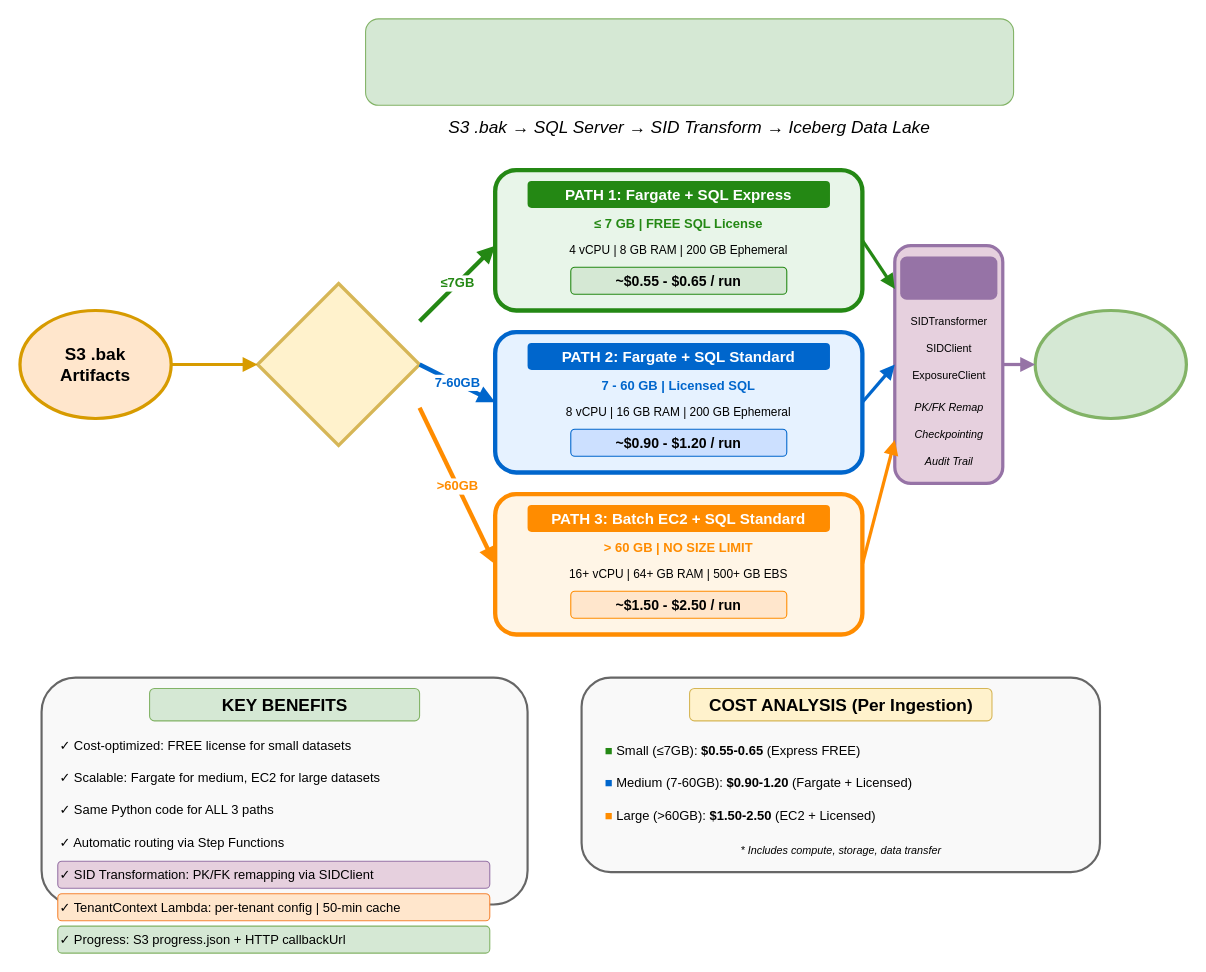
This 1206x972 diagram has some shape labels left out. Each missing label, with the centre of its shape:
ICEBERG Data Lake: pixel 1110 364
INGESTION Pipeline - Executive Summary Three-Path Cost-Optimized Architecture: pixel 689 61
SID Transform: pixel 948 277
Step Functions SIZE ROUTER: pixel 338 364
